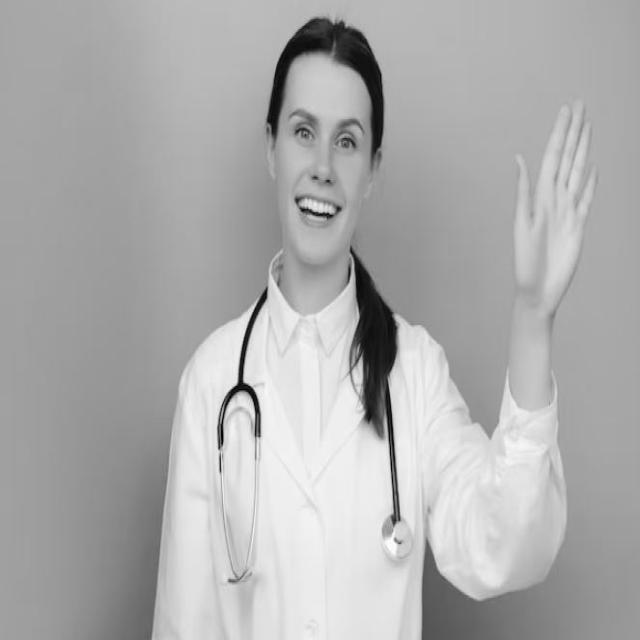stop: (508, 92, 603, 339)
